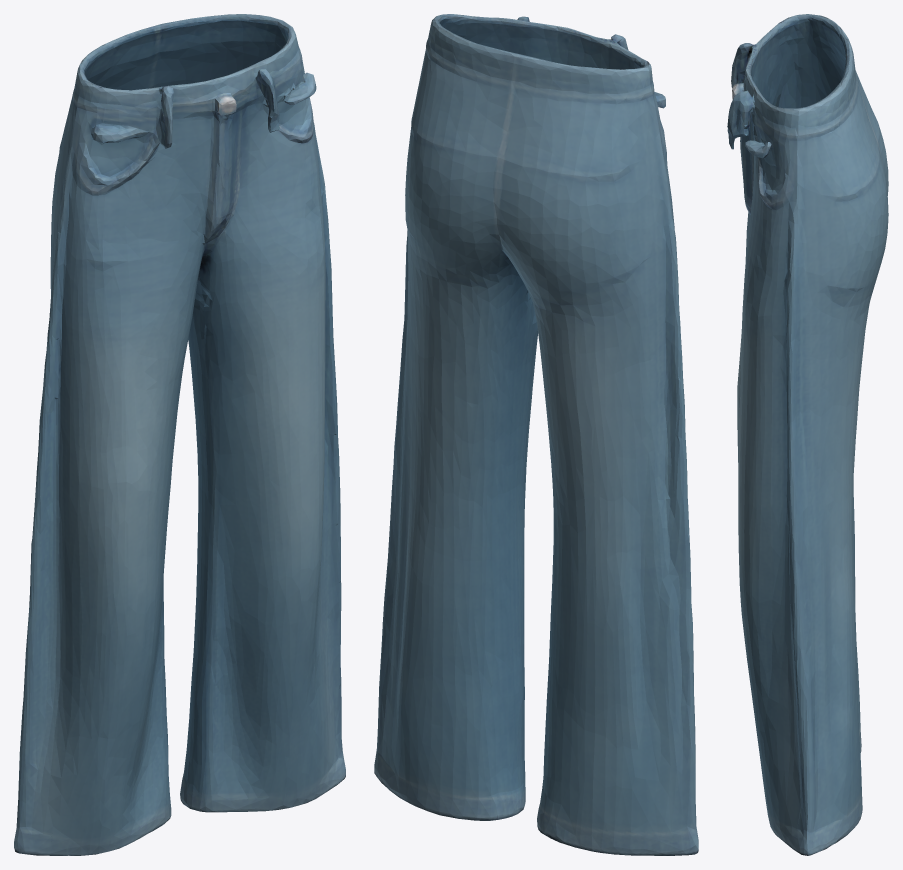
Rendered from bluejeans.glb.
3 renders of one model, left to right at view 1: azimuth 30°, elevation 25°; view 2: azimuth 150°, elevation 25°; view 3: azimuth 270°, elevation 25°, orthographic. The views are drawn at different scales.
Parts seen in each view (by area): view 1: world; view 2: world; view 3: world.
Part boxes in pixels (x1=…): world: x1=14, y1=14, x2=345, y2=855; world: x1=374, y1=14, x2=698, y2=855; world: x1=727, y1=14, x2=888, y2=855.
Bounding box in the file's own units: 0.4433 × 1 × 0.2008.
Materials: 1 (1 with a texture image).
